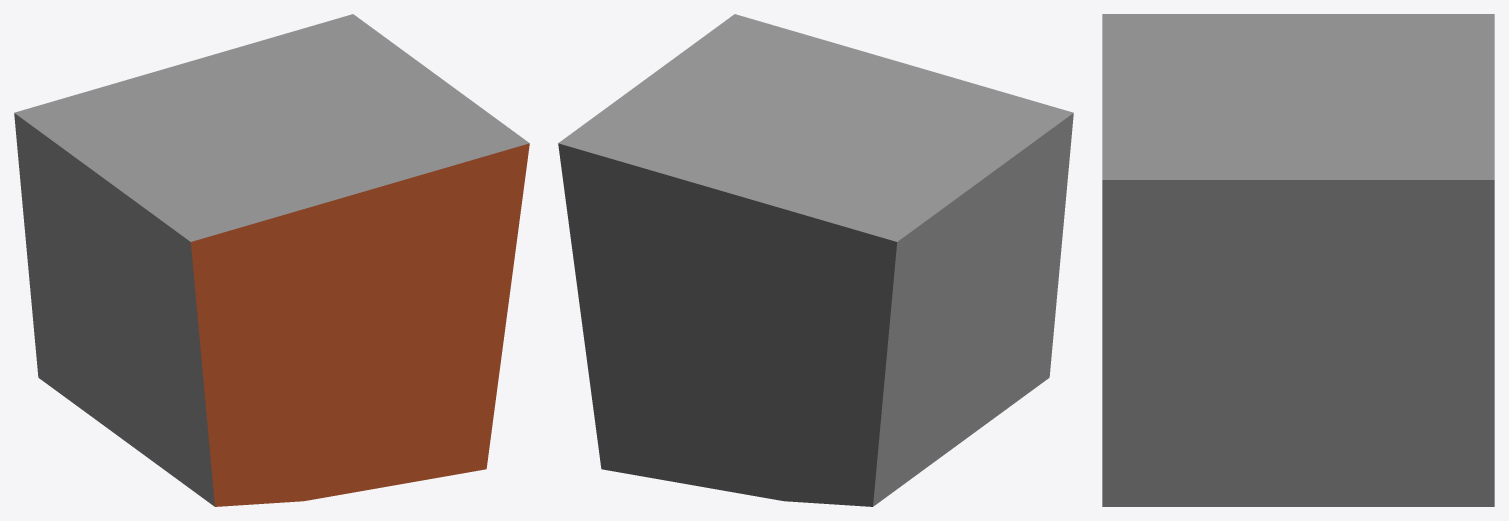
Rendered from construction_2859_assumed_A_Casa_h6m.obj.
3 views of the same model, side by side, from view 1: azimuth 30°, elevation 25°; view 2: azimuth 150°, elevation 25°; view 3: azimuth 270°, elevation 25° (orthographic). The views are drawn at different scales.
Visible parts, largest first — view 1: construction_2859_assumed_A_Casa; view 2: construction_2859_assumed_A_Casa; view 3: construction_2859_assumed_A_Casa.
Part boxes in pixels (x1,y1,x2,y2): construction_2859_assumed_A_Casa: (14, 14, 529, 506); construction_2859_assumed_A_Casa: (558, 14, 1073, 506); construction_2859_assumed_A_Casa: (1102, 14, 1494, 506).
Bounding box in the file's own units: 6.65 × 5.91 × 6.
